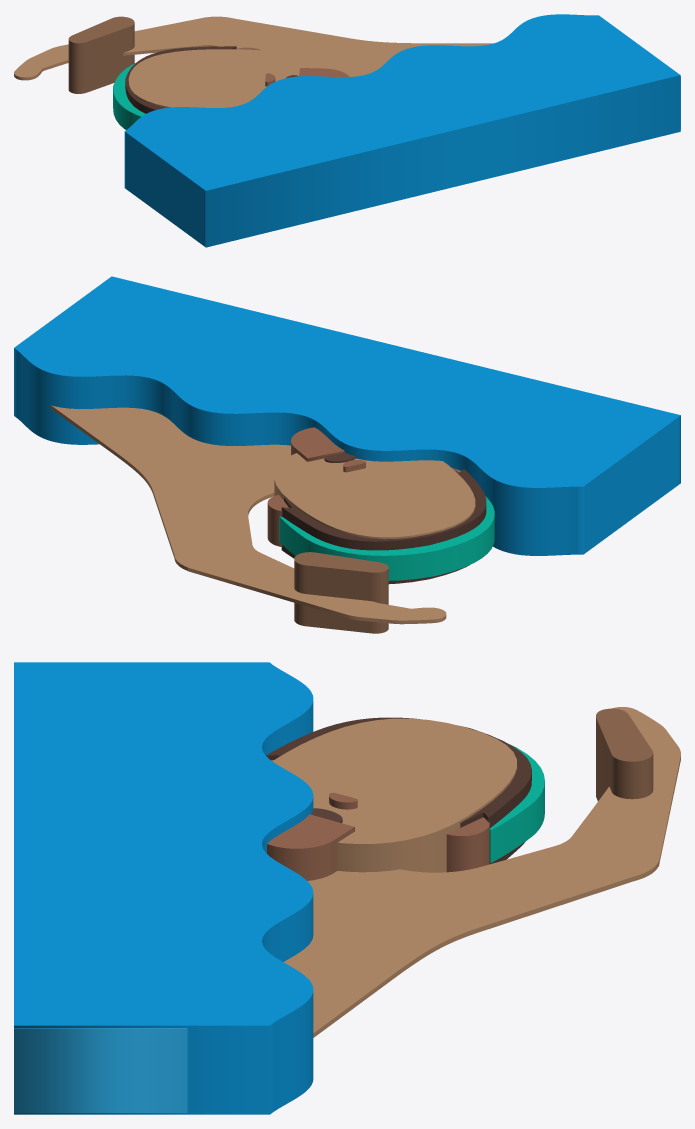
File: emoji_u1f3ca_1f3fd_200d_2642.glb
3 renders of one model, top to bottom at view 1: azimuth 30°, elevation 25°; view 2: azimuth 150°, elevation 25°; view 3: azimuth 270°, elevation 25°, orthographic. The views are drawn at different scales.
Parts seen in each view (by area): view 1: emoji_u1f3ca_1f3fd_200d_2642; view 2: emoji_u1f3ca_1f3fd_200d_2642; view 3: emoji_u1f3ca_1f3fd_200d_2642.
Part boxes in pixels (x1=…): emoji_u1f3ca_1f3fd_200d_2642: x1=14, y1=14, x2=680, y2=247; emoji_u1f3ca_1f3fd_200d_2642: x1=14, y1=276, x2=680, y2=633; emoji_u1f3ca_1f3fd_200d_2642: x1=14, y1=662, x2=680, y2=1114.
Size of the model in its own units: 0.0333 by 0.0038 by 0.0258.
